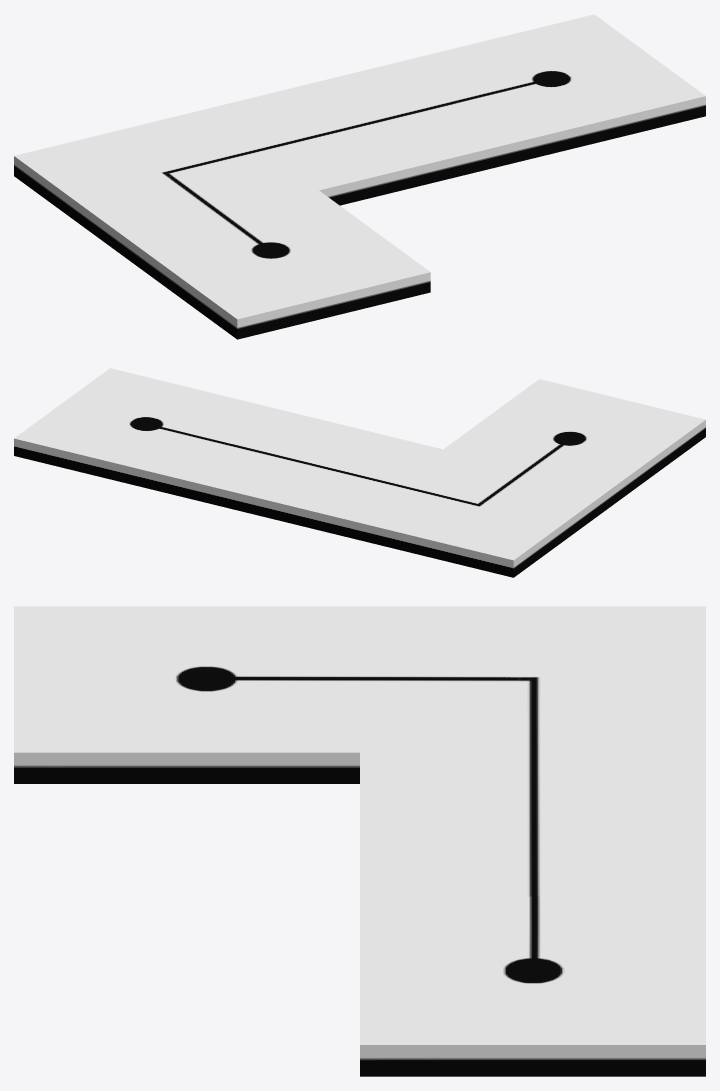
File: L_down_OBJ.obj
The picture shows the model from 3 angles, top to bottom: view 1: azimuth 30°, elevation 25°; view 2: azimuth 150°, elevation 25°; view 3: azimuth 270°, elevation 25°; orthographic projection. The views are drawn at different scales.
Visible parts, largest first — view 1: pCube1; view 2: pCube1; view 3: pCube1.
Boxes of the visible parts, x1,y1,x2,y2 form: pCube1: (14, 14, 705, 339); pCube1: (14, 368, 705, 577); pCube1: (14, 606, 705, 1076).
Bounding box in the file's own units: 3 × 0.1 × 2.
